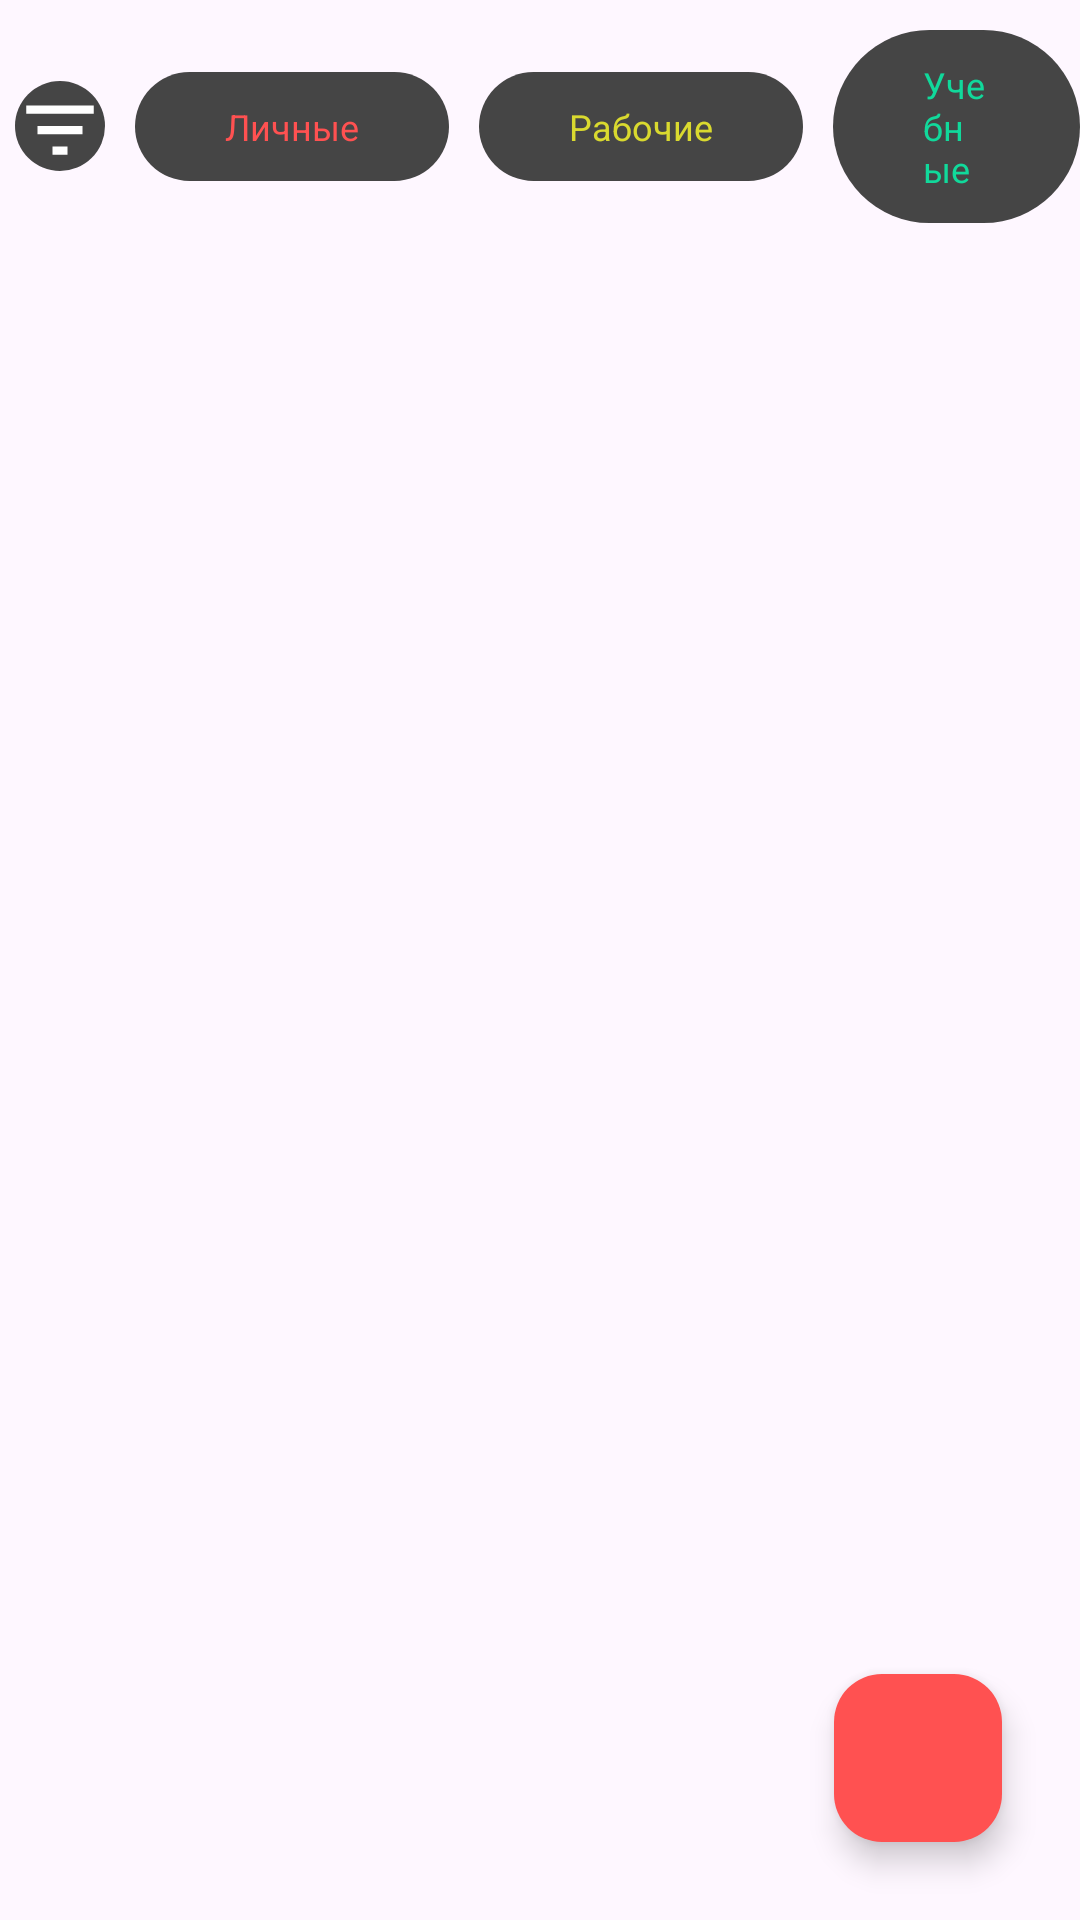

Point at icon controls on the screen. Image size 1080 × 1920, points as (x=x, y=y).
filter list: (x=60, y=126)
